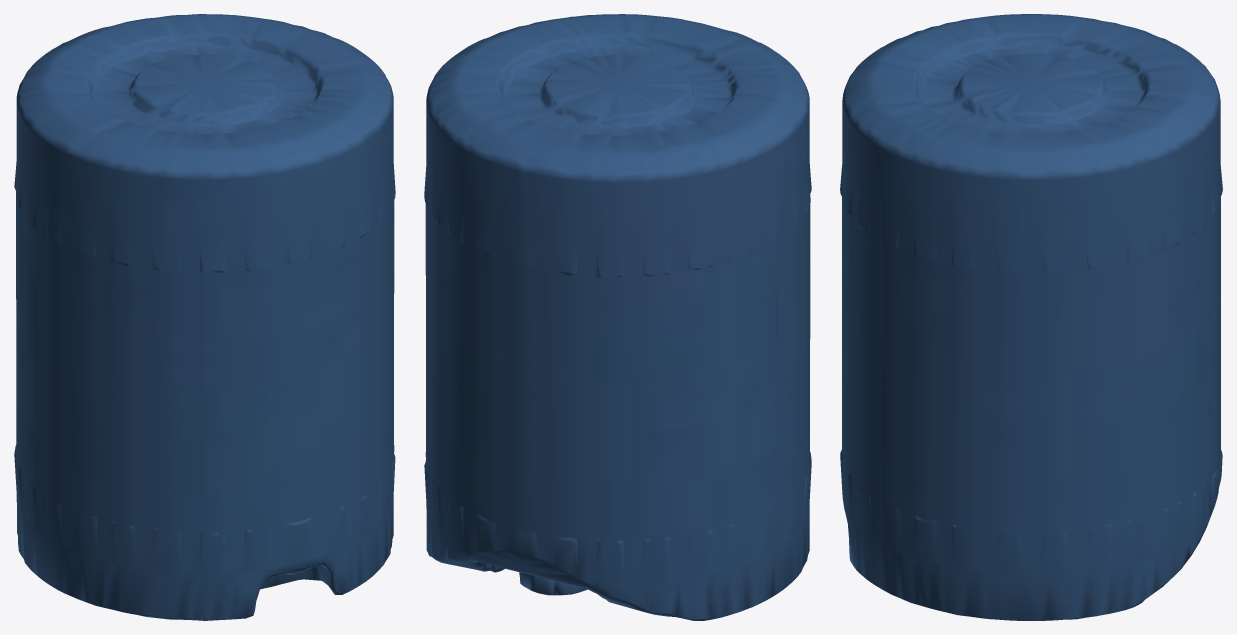
The model's file is drum_plastic_blue_a01.glb.
The picture shows the model from 3 angles, left to right: view 1: azimuth 30°, elevation 25°; view 2: azimuth 150°, elevation 25°; view 3: azimuth 270°, elevation 25°; orthographic projection.
Parts seen in each view (by area): view 1: prop; view 2: prop; view 3: prop.
Boxes of the visible parts, bbox=[...] form: prop: bbox=[14, 14, 395, 620]; prop: bbox=[424, 14, 811, 620]; prop: bbox=[840, 14, 1222, 620].
Bounding box in the file's own units: 0.6709 × 0.9183 × 0.6742.
1 material, 1 textured.
